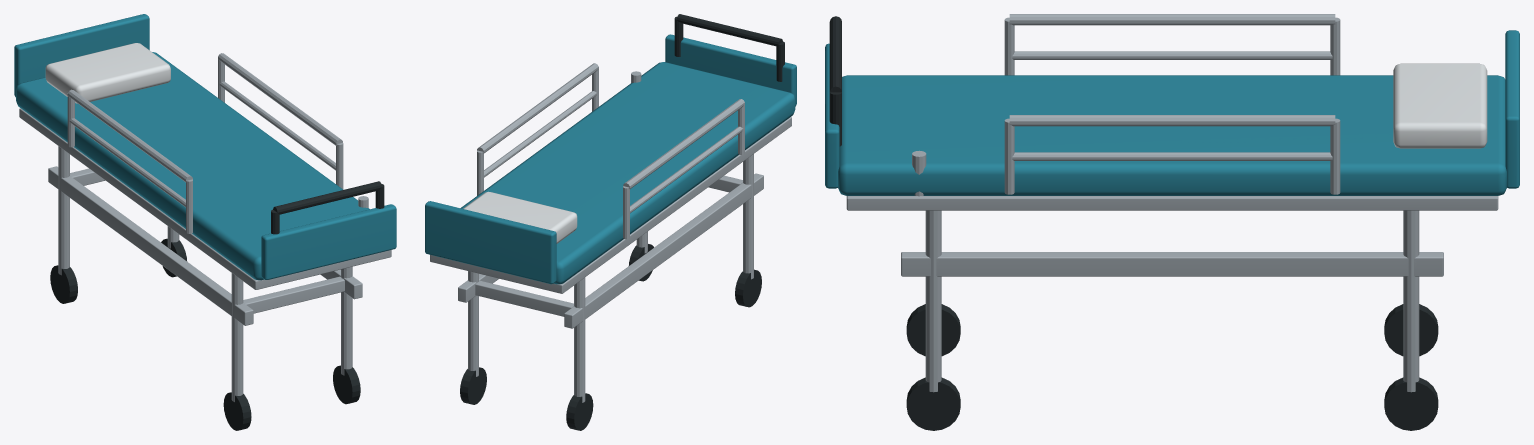
Rendered from transport_trolley.fbx.
3 views of the same model, side by side, from view 1: azimuth 30°, elevation 25°; view 2: azimuth 150°, elevation 25°; view 3: azimuth 270°, elevation 25° (orthographic). The views are drawn at different scales.
Visible parts, largest first — view 1: EQ_transport_trolley_Body, EQ_transport_trolley_FootBoard, EQ_transport_trolley_Pillow, EQ_transport_trolley_ChassisL, EQ_transport_trolley_HeadBoard, EQ_transport_trolley_Deck, EQ_transport_trolley_CrossFoot, EQ_transport_trolley_Leg2, EQ_transport_trolley_RailTop-1, EQ_transport_trolley_RailTop1, EQ_transport_trolley_Leg0, EQ_transport_trolley_Leg3 (+10 smaller); view 2: EQ_transport_trolley_Body, EQ_transport_trolley_HeadBoard, EQ_transport_trolley_ChassisL, EQ_transport_trolley_FootBoard, EQ_transport_trolley_Deck, EQ_transport_trolley_Pillow, EQ_transport_trolley_CrossHead, EQ_transport_trolley_RailTop1, EQ_transport_trolley_Leg0, EQ_transport_trolley_RailTop-1, EQ_transport_trolley_Leg2, EQ_transport_trolley_HandleBar (+9 smaller); view 3: EQ_transport_trolley_Body, EQ_transport_trolley_ChassisR, EQ_transport_trolley_Deck, EQ_transport_trolley_Pillow, EQ_transport_trolley_RailTop-1, EQ_transport_trolley_RailTop1, EQ_transport_trolley_RailMid-1, EQ_transport_trolley_RailMid1, EQ_transport_trolley_Leg1, EQ_transport_trolley_Leg3, EQ_transport_trolley_HeadBoard, EQ_transport_trolley_Wheel1 (+7 smaller).
Part boxes in pixels (<box>): EQ_transport_trolley_Body: <box>16,52,369,280</box>; EQ_transport_trolley_FootBoard: <box>261,204,396,279</box>; EQ_transport_trolley_Pillow: <box>45,43,170,103</box>; EQ_transport_trolley_ChassisL: <box>48,166,253,325</box>; EQ_transport_trolley_HeadBoard: <box>14,14,149,97</box>; EQ_transport_trolley_Deck: <box>19,108,391,289</box>; EQ_transport_trolley_CrossFoot: <box>231,276,344,316</box>; EQ_transport_trolley_Leg2: <box>231,273,243,401</box>; EQ_transport_trolley_RailTop-1: <box>68,89,192,182</box>; EQ_transport_trolley_RailTop1: <box>218,53,342,145</box>; EQ_transport_trolley_Leg0: <box>58,146,69,275</box>; EQ_transport_trolley_Leg3: <box>341,266,352,375</box>; EQ_transport_trolley_Body: <box>460,62,795,284</box>; EQ_transport_trolley_HeadBoard: <box>425,201,556,284</box>; EQ_transport_trolley_ChassisL: <box>564,173,763,328</box>; EQ_transport_trolley_FootBoard: <box>665,34,796,106</box>; EQ_transport_trolley_Deck: <box>430,117,791,293</box>; EQ_transport_trolley_Pillow: <box>463,191,577,243</box>; EQ_transport_trolley_CrossHead: <box>475,280,583,319</box>; EQ_transport_trolley_RailTop1: <box>477,63,598,153</box>; EQ_transport_trolley_Leg0: <box>574,277,585,402</box>; EQ_transport_trolley_RailTop-1: <box>623,99,744,188</box>; EQ_transport_trolley_Leg2: <box>743,154,753,279</box>; EQ_transport_trolley_HandleBar: <box>676,14,782,46</box>; EQ_transport_trolley_Body: <box>838,75,1506,195</box>; EQ_transport_trolley_ChassisR: <box>901,252,1443,276</box>; EQ_transport_trolley_Deck: <box>846,196,1498,210</box>; EQ_transport_trolley_Pillow: <box>1393,63,1487,148</box>; EQ_transport_trolley_RailTop-1: <box>1009,14,1335,25</box>; EQ_transport_trolley_RailTop1: <box>1009,115,1335,126</box>; EQ_transport_trolley_RailMid-1: <box>1012,51,1332,59</box>; EQ_transport_trolley_RailMid1: <box>1012,152,1332,160</box>; EQ_transport_trolley_Leg1: <box>1403,210,1419,392</box>; EQ_transport_trolley_Leg3: <box>925,210,941,392</box>; EQ_transport_trolley_HeadBoard: <box>1505,30,1519,188</box>; EQ_transport_trolley_Wheel1: <box>1384,377,1438,430</box>.
Size of the model in its own units: 0.6904 by 1.04 by 1.92.
